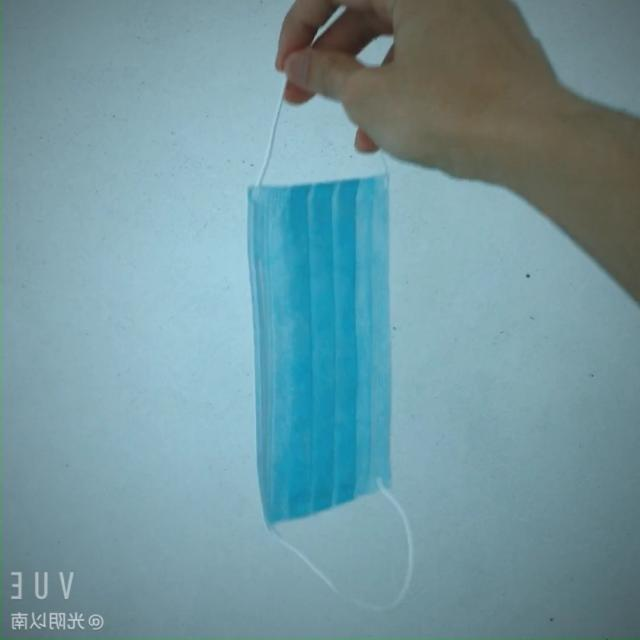face mask: (228, 152, 402, 514)
